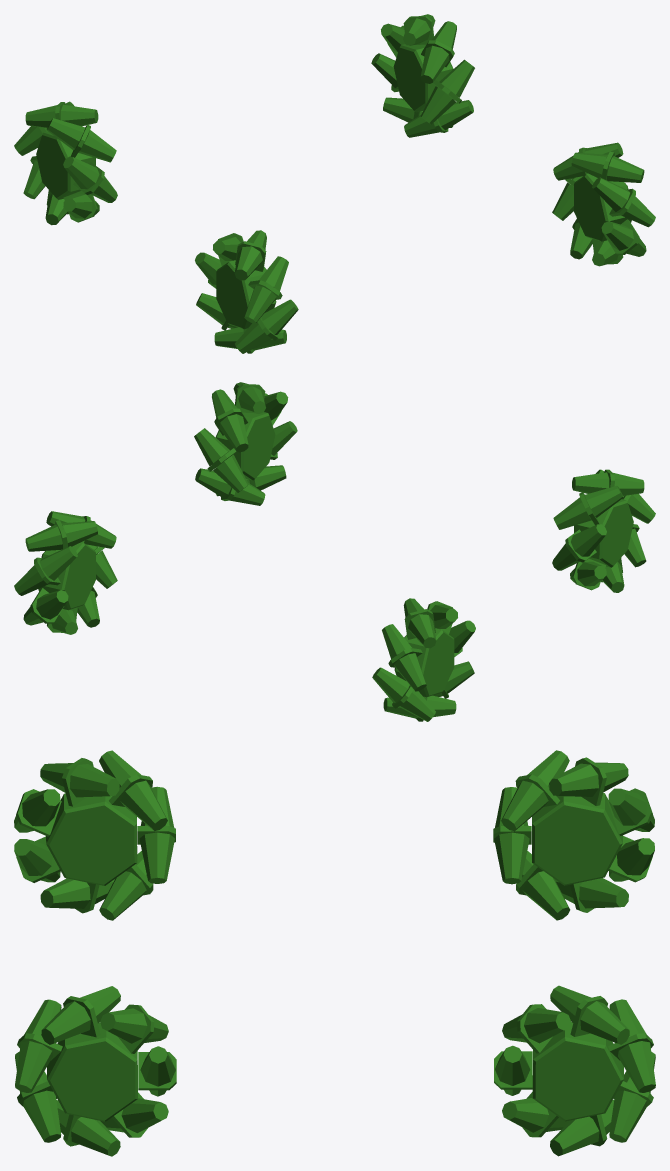
File: MecanumWheels.fbx
3 renders of one model, top to bottom at view 1: azimuth 30°, elevation 25°; view 2: azimuth 150°, elevation 25°; view 3: azimuth 270°, elevation 25°, orthographic. The views are drawn at different scales.
Visible parts, largest first — view 1: Wheel_R_B, Wheel_R_F, Wheel_L_F, Wheel_L_B; view 2: Wheel_R_B, Wheel_R_F, Wheel_L_B, Wheel_L_F; view 3: Wheel_L_B, Wheel_L_F, Wheel_R_F, Wheel_R_B.
Boxes of the visible parts, left/top/right/bottom form: Wheel_R_B: left=552, top=142, right=655, bottom=266; Wheel_R_F: left=371, top=14, right=474, bottom=137; Wheel_L_F: left=14, top=101, right=117, bottom=225; Wheel_L_B: left=195, top=230, right=298, bottom=353; Wheel_R_B: left=194, top=382, right=297, bottom=505; Wheel_R_F: left=14, top=511, right=117, bottom=634; Wheel_L_B: left=552, top=469, right=655, bottom=592; Wheel_L_F: left=372, top=598, right=475, bottom=721; Wheel_L_B: left=14, top=750, right=175, bottom=920; Wheel_L_F: left=493, top=750, right=654, bottom=920; Wheel_R_F: left=494, top=985, right=655, bottom=1156; Wheel_R_B: left=15, top=986, right=176, bottom=1156.
Size of the model in its own units: 40.79 by 10.45 by 40.89.
